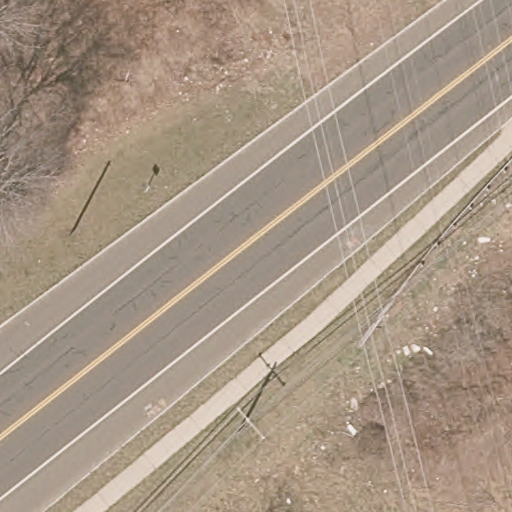DT: (232, 407, 266, 438)
